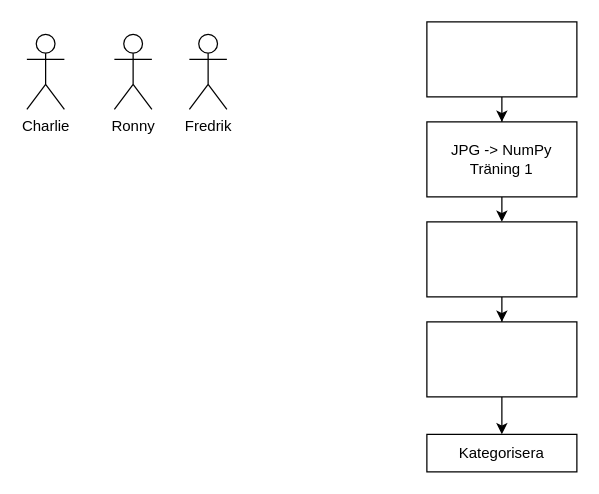
This 599x494 diagram has some shape labels left out. Here are the shapes that lost their labels. From the top down, the centre of each, then its label:
the point at 501,59: Start
the point at 501,259: JPG -> NumPy Test 1
the point at 501,359: Räkna distans
